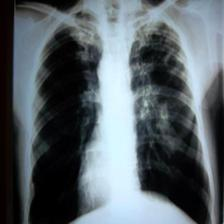tuberculosis: (20, 4, 220, 224)
